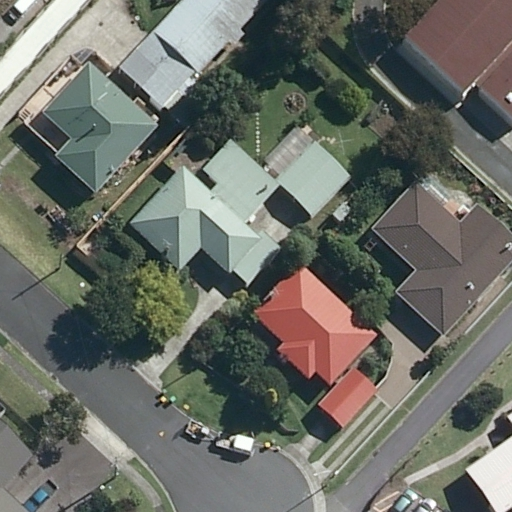DT: (108, 455, 121, 480), (58, 250, 64, 276)
